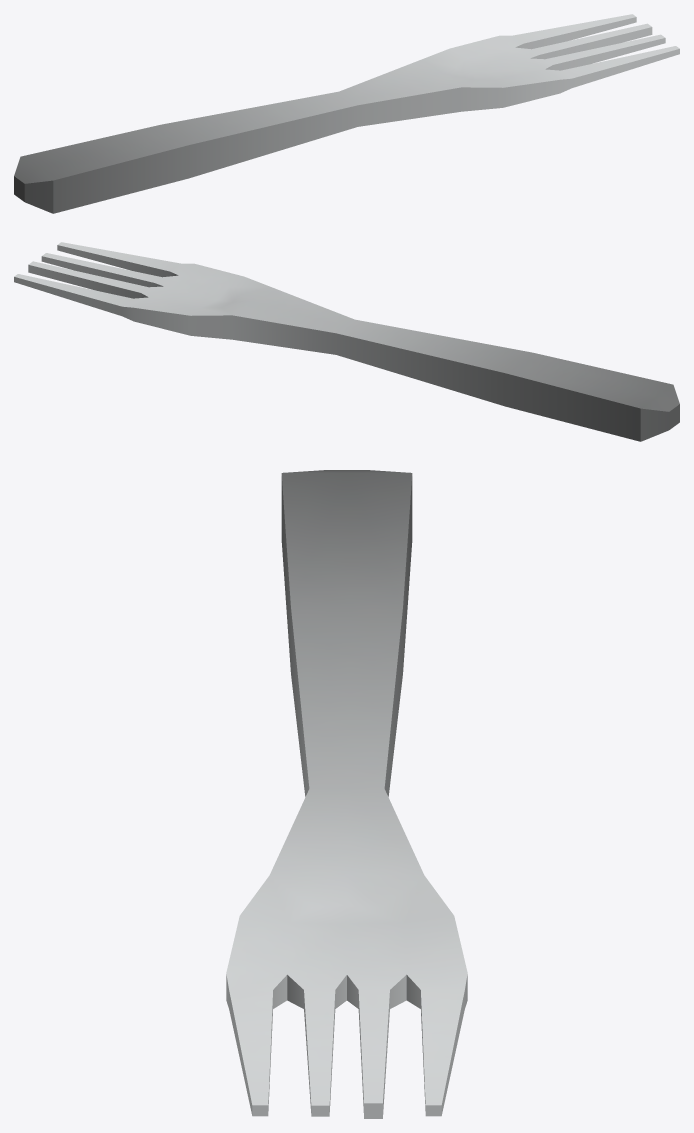
Rendered from Fork.fbx.
3 renders of one model, top to bottom at view 1: azimuth 30°, elevation 25°; view 2: azimuth 150°, elevation 25°; view 3: azimuth 270°, elevation 25°, orthographic. The views are drawn at different scales.
Visible parts, largest first — view 1: Fork; view 2: Fork; view 3: Fork.
Boxes of the visible parts, x1=… form: Fork: x1=14, y1=14, x2=679, y2=213; Fork: x1=14, y1=242, x2=679, y2=441; Fork: x1=226, y1=470, x2=467, y2=1118.
Size of the model in its own units: 19.39 by 0.9686 by 3.18.
